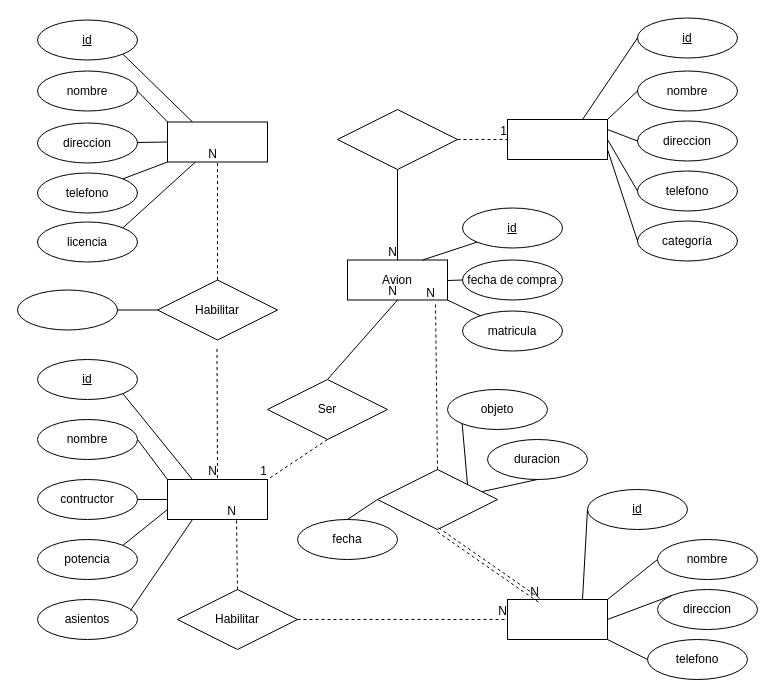
This 775x697 diagram has some shape labels left out. The shapes that lost their labels are listed below. From the top down, each one's box as (x1, y1, x2, y2) in pixels, then its label:
(166, 121, 268, 162): Piloto
(336, 108, 458, 170): Pertenecer
(506, 118, 608, 160): Propietario
(16, 289, 118, 330): no_hrs_vuelos
(166, 478, 268, 520): Tipo_Avion
(376, 468, 498, 530): Mantener
(506, 598, 608, 640): Mecanico
